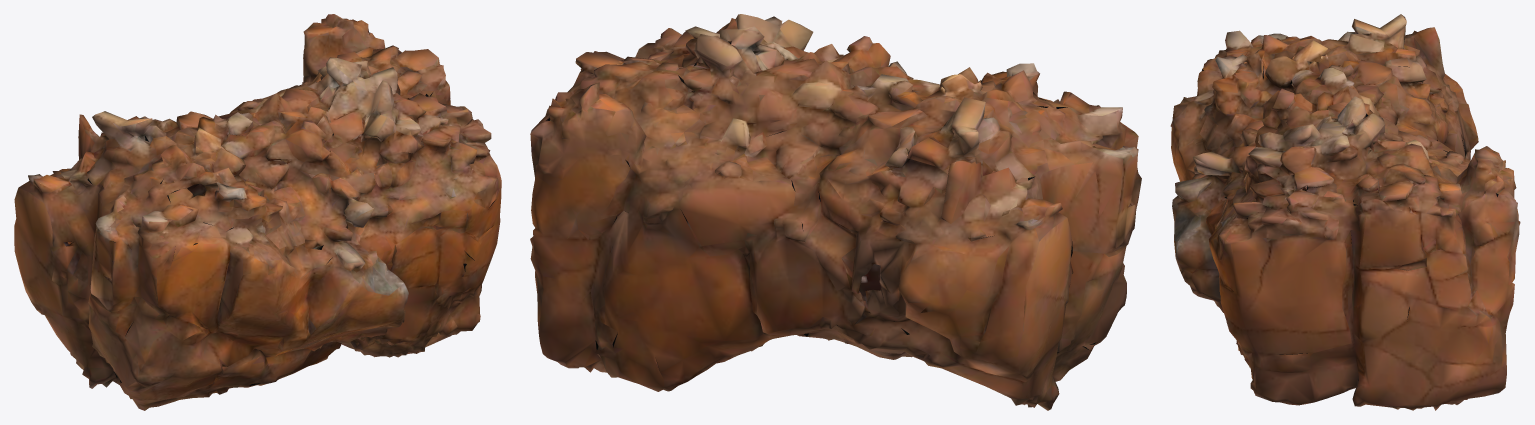
File: redcliff_b.glb
3 renders of one model, left to right at view 1: azimuth 30°, elevation 25°; view 2: azimuth 150°, elevation 25°; view 3: azimuth 270°, elevation 25°, orthographic. The views are drawn at different scales.
Visible parts, largest first — view 1: redcliff_b_00; view 2: redcliff_b_00; view 3: redcliff_b_00.
Part boxes in pixels (left/top/right/bottom): redcliff_b_00: left=14, top=14, right=501, bottom=410; redcliff_b_00: left=530, top=14, right=1141, bottom=410; redcliff_b_00: left=1170, top=14, right=1520, bottom=410.
Bounding box in the file's own units: 1.99 × 1.33 × 1.52.
1 material, 1 textured.
